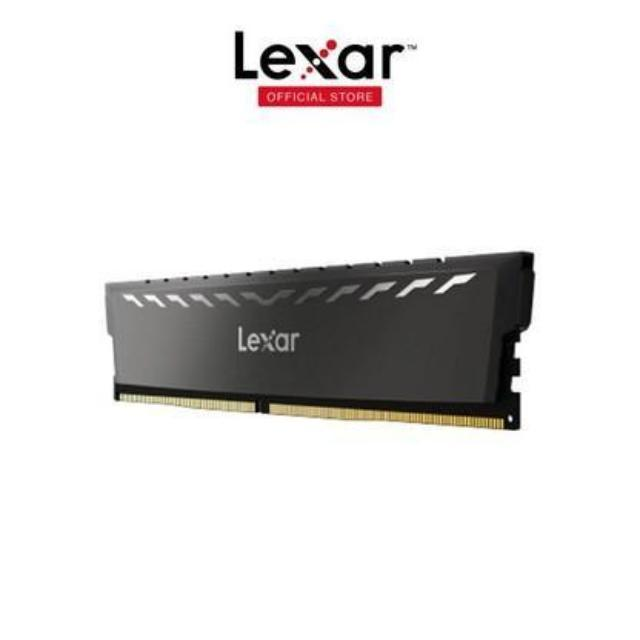RAM: (104, 240, 548, 442)
